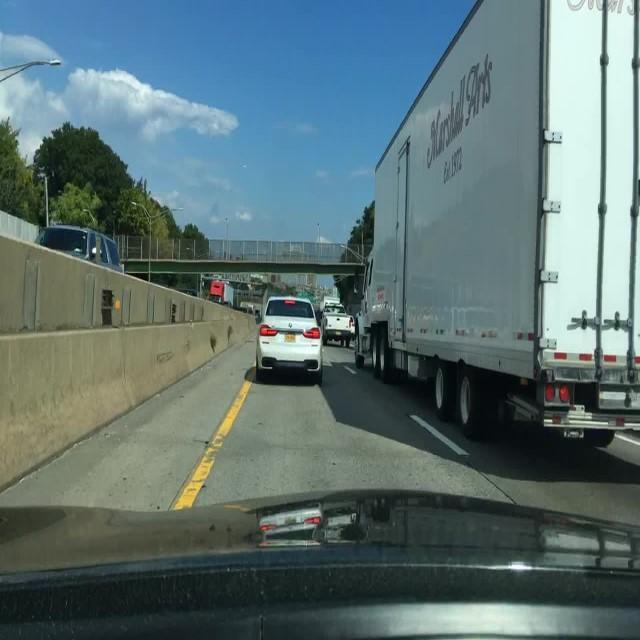normal: (357, 0, 640, 464), (258, 296, 324, 378), (321, 304, 357, 350)
